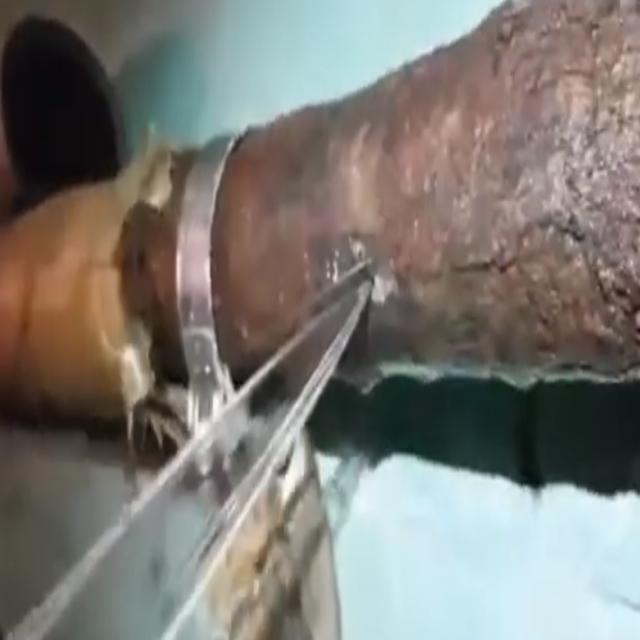leak: (9, 271, 371, 638)
